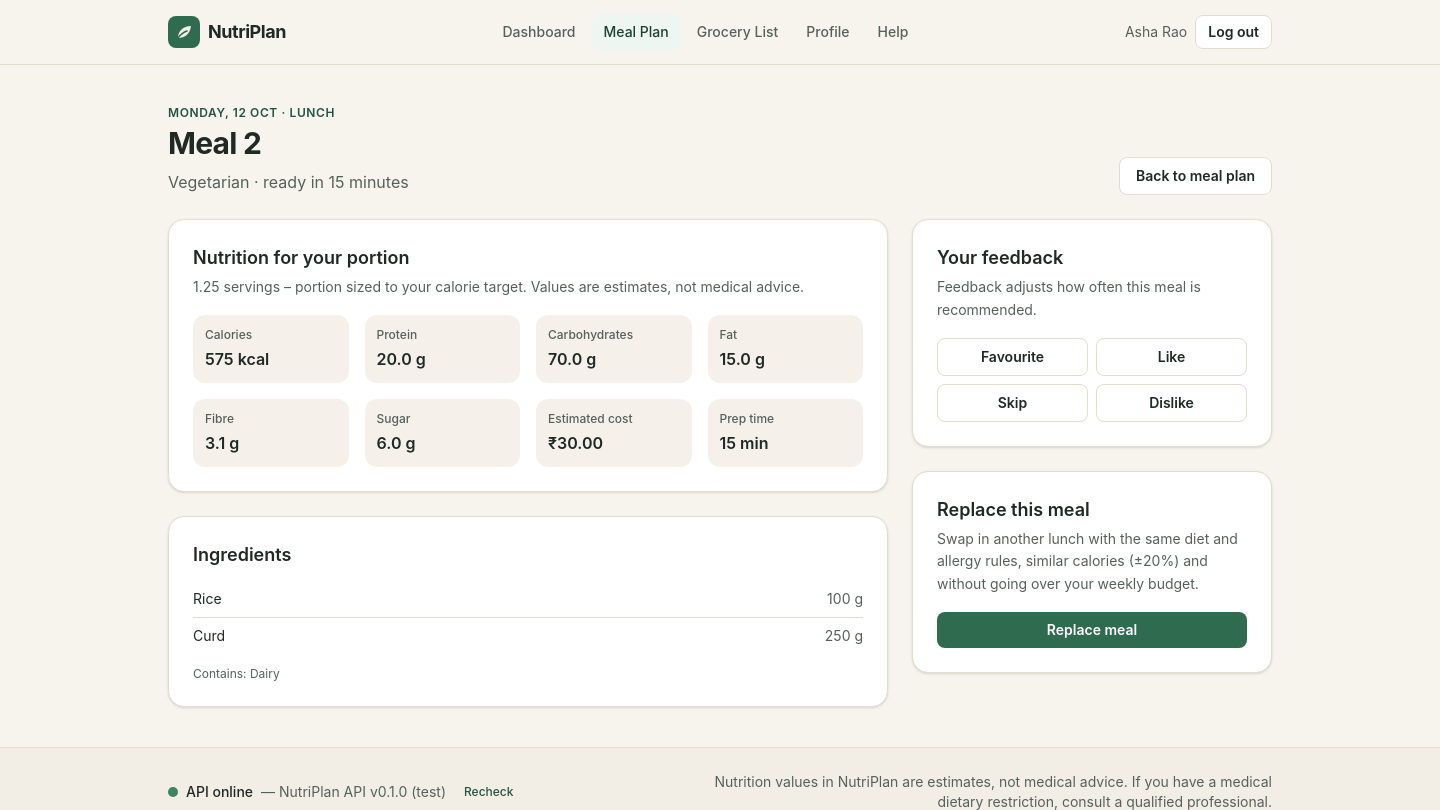
Scenario: Meal details (feedback & replacement) › replaces a meal and avoids recipes already swapped out (REQ-4.5.1)
The width and height of the screenshot is (1440, 810).
Click the button "Replace meal". click: [1092, 630]
box: [937, 612, 1247, 648]
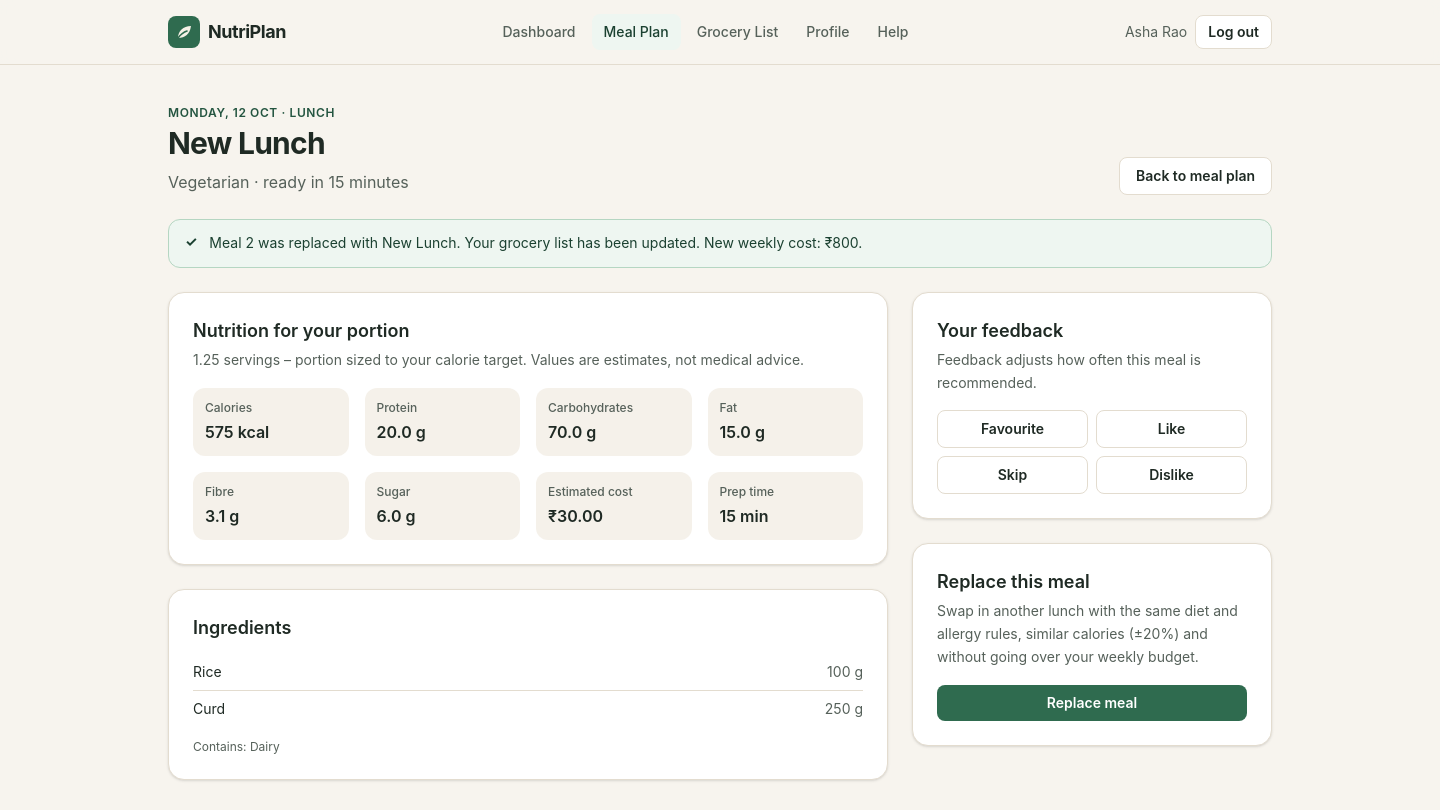
Expected: the heading "New Lunch" is shown, [168, 125, 325, 161]
Expected: the text "grocery list has been updated" is shown, [209, 234, 862, 251]
